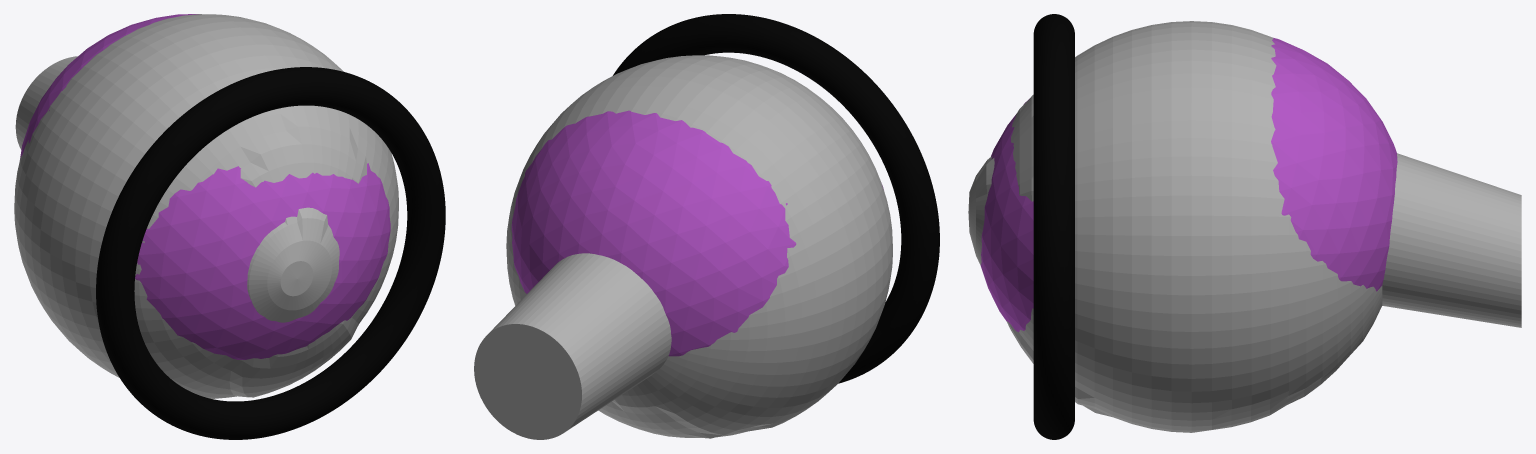
Rendered from C0_INITIAL.glb.
3 views of the same model, side by side, from view 1: azimuth 30°, elevation 25°; view 2: azimuth 150°, elevation 25°; view 3: azimuth 270°, elevation 25° (orthographic). The views are drawn at different scales.
Parts seen in each view (by area): view 1: GT_EVALUATION_ONLY, Ring_CAD, C0_INITIAL; view 2: GT_EVALUATION_ONLY, C0_INITIAL, Ring_CAD; view 3: GT_EVALUATION_ONLY, C0_INITIAL, Ring_CAD.
Part boxes in pixels (left/top/right/bottom): GT_EVALUATION_ONLY: left=14, top=14, right=398, bottom=398; Ring_CAD: left=96, top=67, right=445, bottom=439; C0_INITIAL: left=20, top=14, right=390, bottom=359; GT_EVALUATION_ONLY: left=474, top=55, right=892, bottom=439; C0_INITIAL: left=511, top=110, right=883, bottom=356; Ring_CAD: left=613, top=14, right=939, bottom=383; GT_EVALUATION_ONLY: left=968, top=21, right=1521, bottom=432; C0_INITIAL: left=980, top=37, right=1397, bottom=332; Ring_CAD: left=1033, top=14, right=1074, bottom=439.
Bounding box in the file's own units: 0.0124 × 0.0124 × 0.0161.
